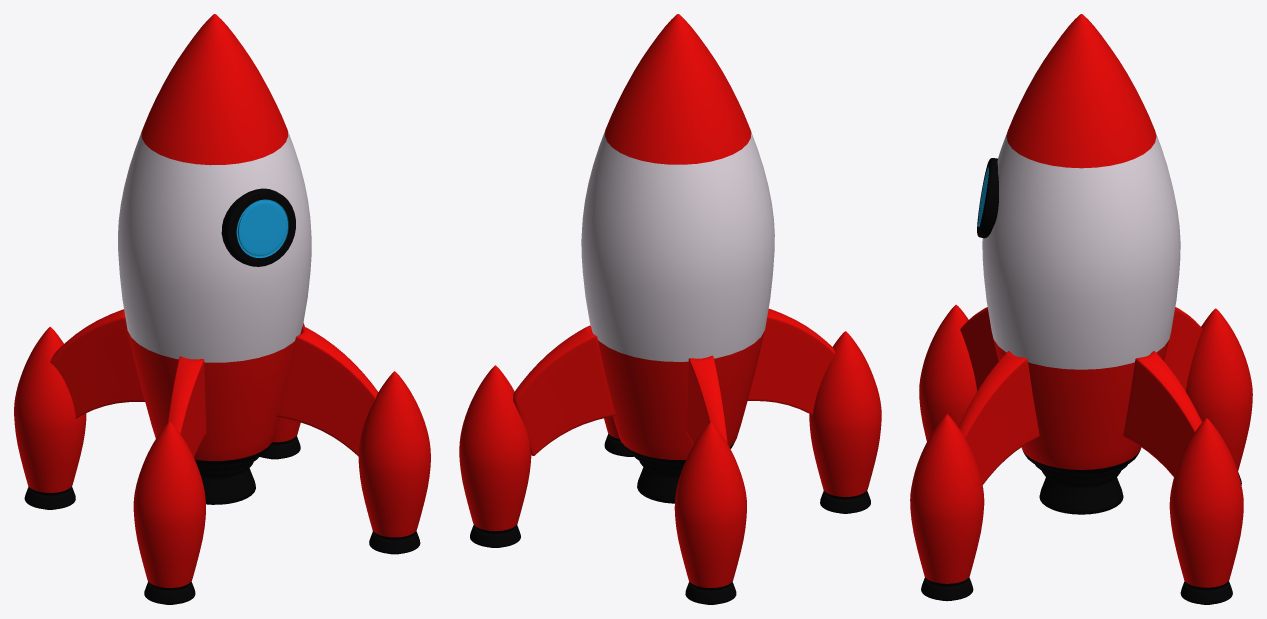
The model's file is Space Rocket.gltf.
The picture shows the model from 3 angles, left to right: view 1: azimuth 30°, elevation 25°; view 2: azimuth 150°, elevation 25°; view 3: azimuth 270°, elevation 25°; orthographic projection. The views are drawn at different scales.
Visible parts, largest first — view 1: Circle, Circle.007, Circle.001, Circle.005, Circle.002, Circle.006, Cylinder, Circle.008, Circle.003; view 2: Circle, Circle.005, Circle.003, Circle.007, Circle.004, Circle.008, Circle.006, Circle.001; view 3: Circle, Circle.003, Circle.001, Circle.005, Circle.002, Circle.004, Circle.007, Circle.008, Circle.006, Cylinder.
Boxes of the visible parts, <box> form: Circle: <box>118,14,311,504</box>; Circle.007: <box>133,422,205,604</box>; Circle.001: <box>358,371,430,554</box>; Circle.005: <box>14,326,86,509</box>; Circle.002: <box>277,326,378,456</box>; Circle.006: <box>50,309,144,418</box>; Cylinder: <box>221,188,295,266</box>; Circle.008: <box>168,356,206,457</box>; Circle.003: <box>260,323,304,459</box>; Circle: <box>581,14,774,503</box>; Circle.005: <box>674,422,746,604</box>; Circle.003: <box>459,365,531,547</box>; Circle.007: <box>809,331,881,513</box>; Circle.004: <box>513,325,615,455</box>; Circle.008: <box>747,308,835,415</box>; Circle.006: <box>686,355,727,444</box>; Circle.001: <box>604,416,633,456</box>; Circle: <box>982,14,1180,514</box>; Circle.003: <box>1169,418,1243,604</box>; Circle.001: <box>910,414,984,601</box>; Circle.005: <box>1186,308,1252,484</box>; Circle.002: <box>958,351,1039,484</box>; Circle.004: <box>1123,351,1202,476</box>; Circle.007: <box>919,304,976,441</box>; Circle.008: <box>960,307,998,391</box>; Circle.006: <box>1164,307,1202,391</box>; Cylinder: <box>977,158,998,238</box>.
Size of the model in its own units: 1.37 by 2.31 by 1.37.
